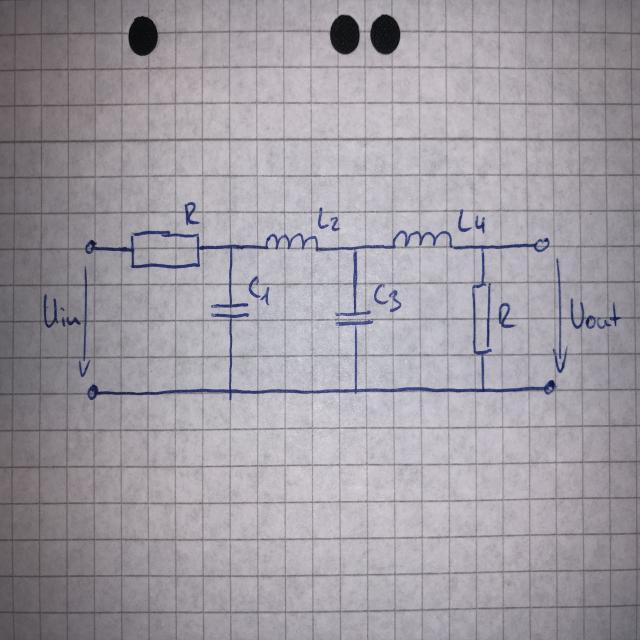capacitor: (209, 299, 252, 323), (332, 309, 374, 328)
inductor: (391, 225, 456, 254), (262, 231, 323, 255)
junction: (349, 241, 361, 259), (225, 384, 237, 400), (350, 383, 361, 398), (478, 382, 489, 397), (226, 240, 236, 255), (477, 242, 488, 255)
resistor: (129, 227, 205, 272), (470, 278, 494, 358)
terminal: (526, 233, 551, 255), (535, 375, 556, 397), (82, 236, 100, 257), (86, 381, 103, 402)
text: (568, 295, 622, 333), (41, 292, 82, 329), (374, 282, 404, 314), (457, 206, 486, 236), (248, 275, 271, 306), (317, 204, 340, 234), (496, 301, 517, 330), (183, 200, 201, 227)
